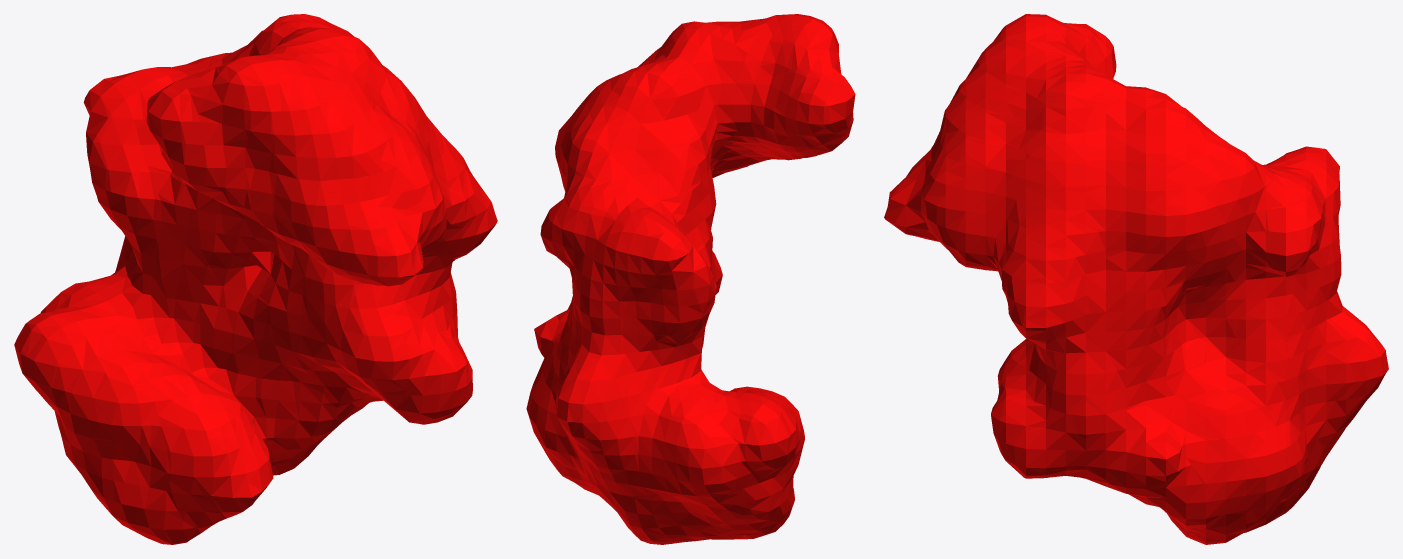
Rendered from 14_3_3_protein_beta_alpha_Prot_coarse.dae.
3 views of the same model, side by side, from view 1: azimuth 30°, elevation 25°; view 2: azimuth 150°, elevation 25°; view 3: azimuth 270°, elevation 25° (orthographic). The views are drawn at different scales.
Parts seen in each view (by area): view 1: 14_3_3_protein_beta_alpha_Prot; view 2: 14_3_3_protein_beta_alpha_Prot; view 3: 14_3_3_protein_beta_alpha_Prot.
Part boxes in pixels (box(x1,y1,x2,y2)): 14_3_3_protein_beta_alpha_Prot: box(14, 14, 497, 544); 14_3_3_protein_beta_alpha_Prot: box(526, 14, 855, 544); 14_3_3_protein_beta_alpha_Prot: box(884, 14, 1388, 544).
Bounding box in the file's own units: 58.76 × 85.71 × 79.63.
